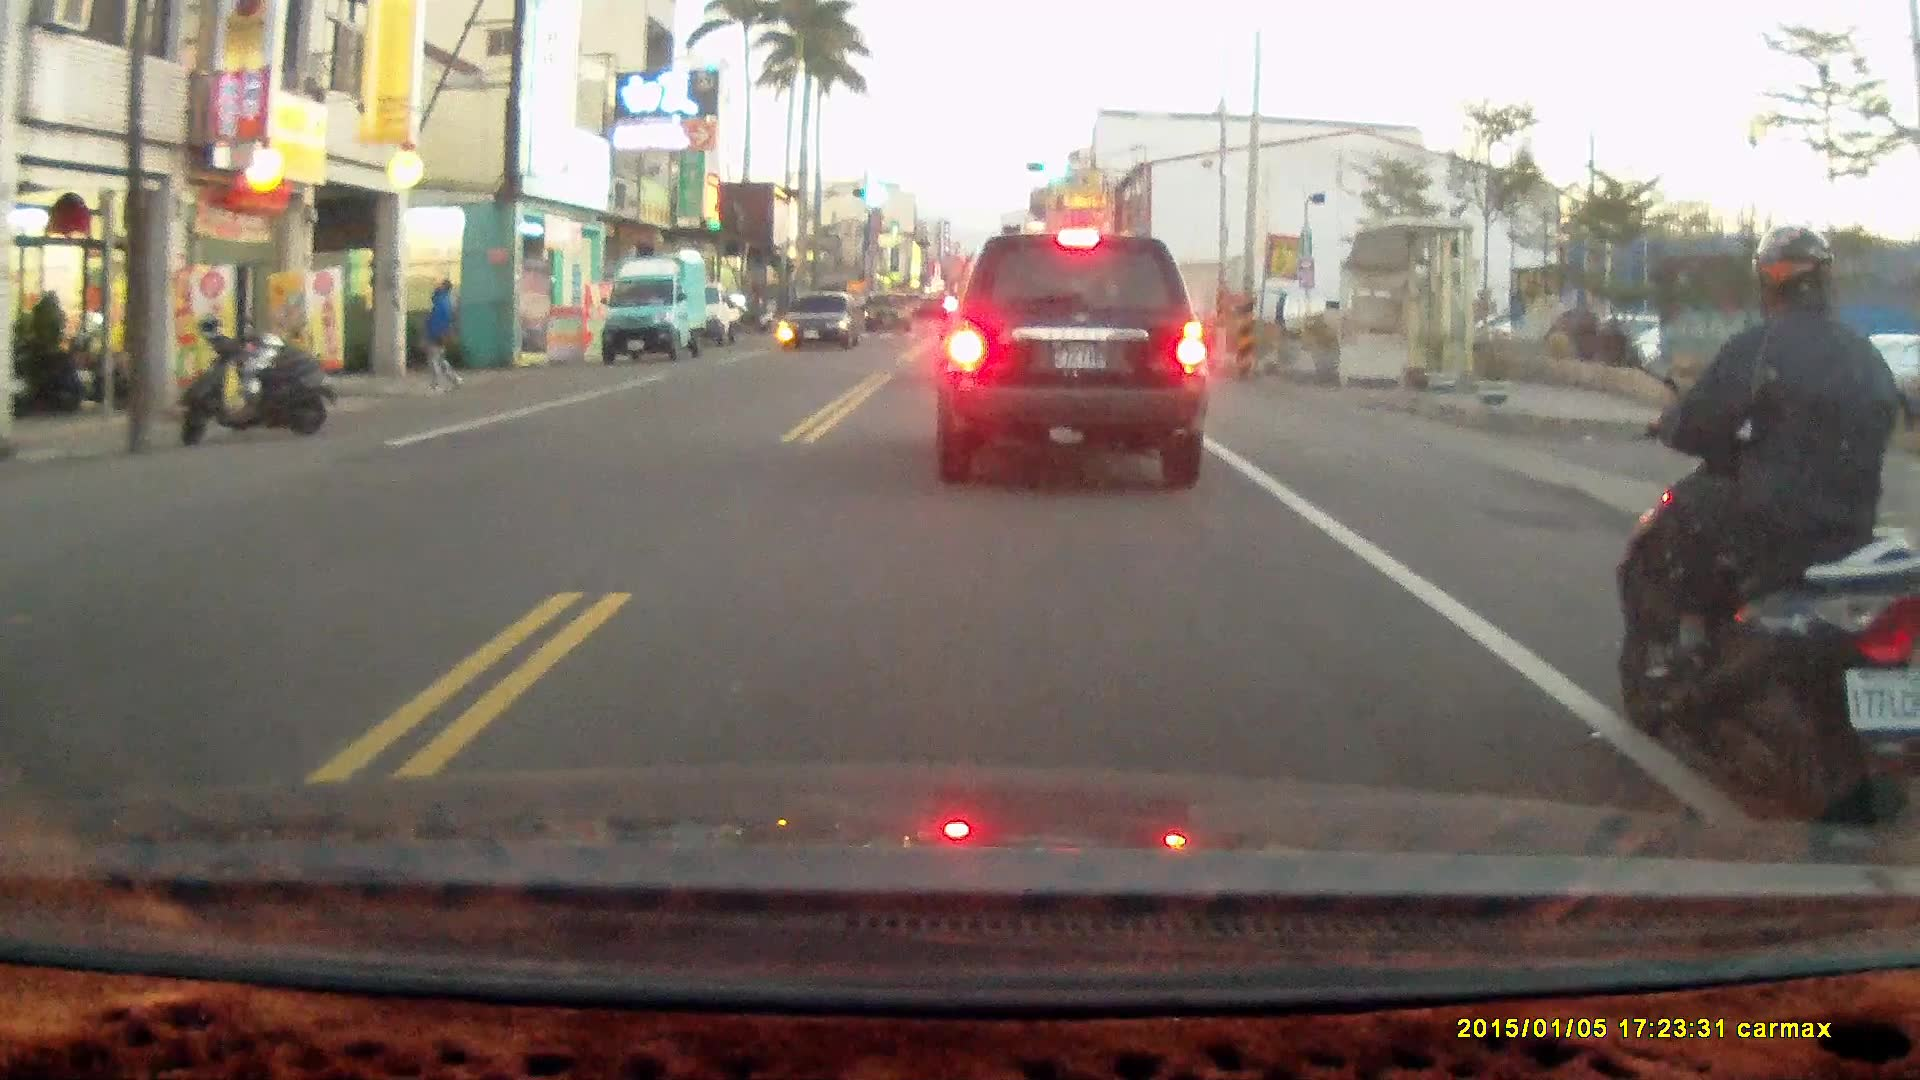pedestrian: (422, 276, 461, 399)
rider: (1616, 214, 1920, 838)
vehicle: (930, 228, 1213, 482), (594, 246, 711, 366), (780, 291, 868, 350), (863, 290, 915, 335)
